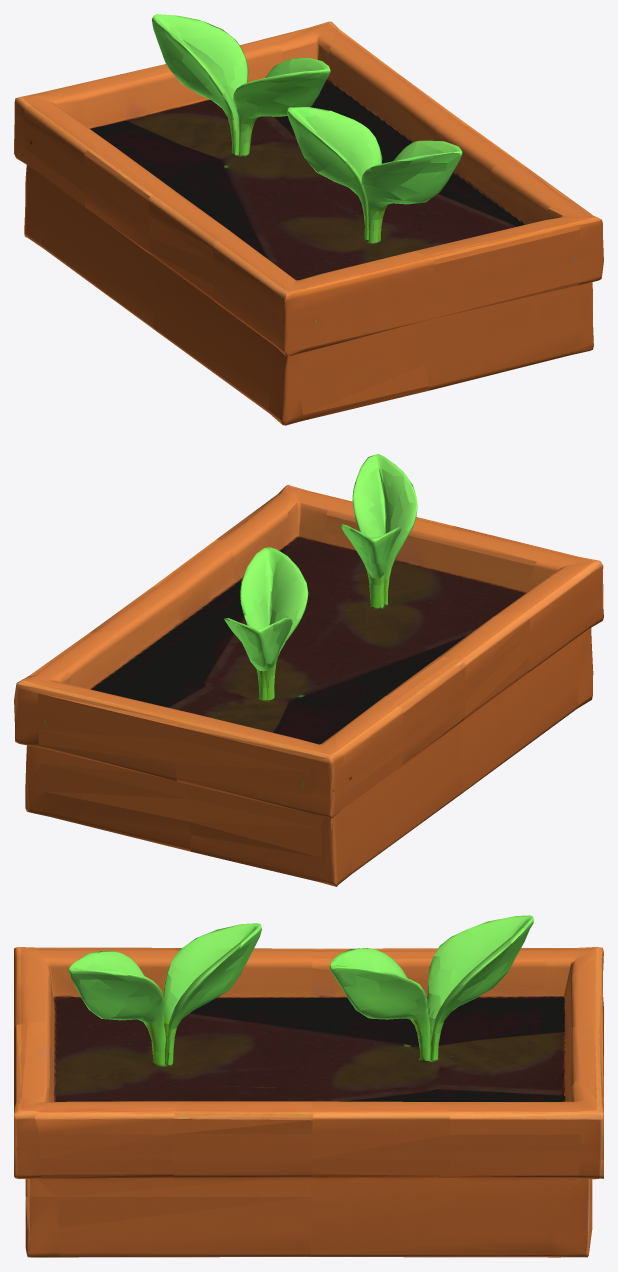
The model's file is cropBed.glb.
3 renders of one model, top to bottom at view 1: azimuth 30°, elevation 25°; view 2: azimuth 150°, elevation 25°; view 3: azimuth 270°, elevation 25°, orthographic. The views are drawn at different scales.
Size of the model in its own units: 0.6777 by 0.4395 by 1.
1 material, 1 textured.
